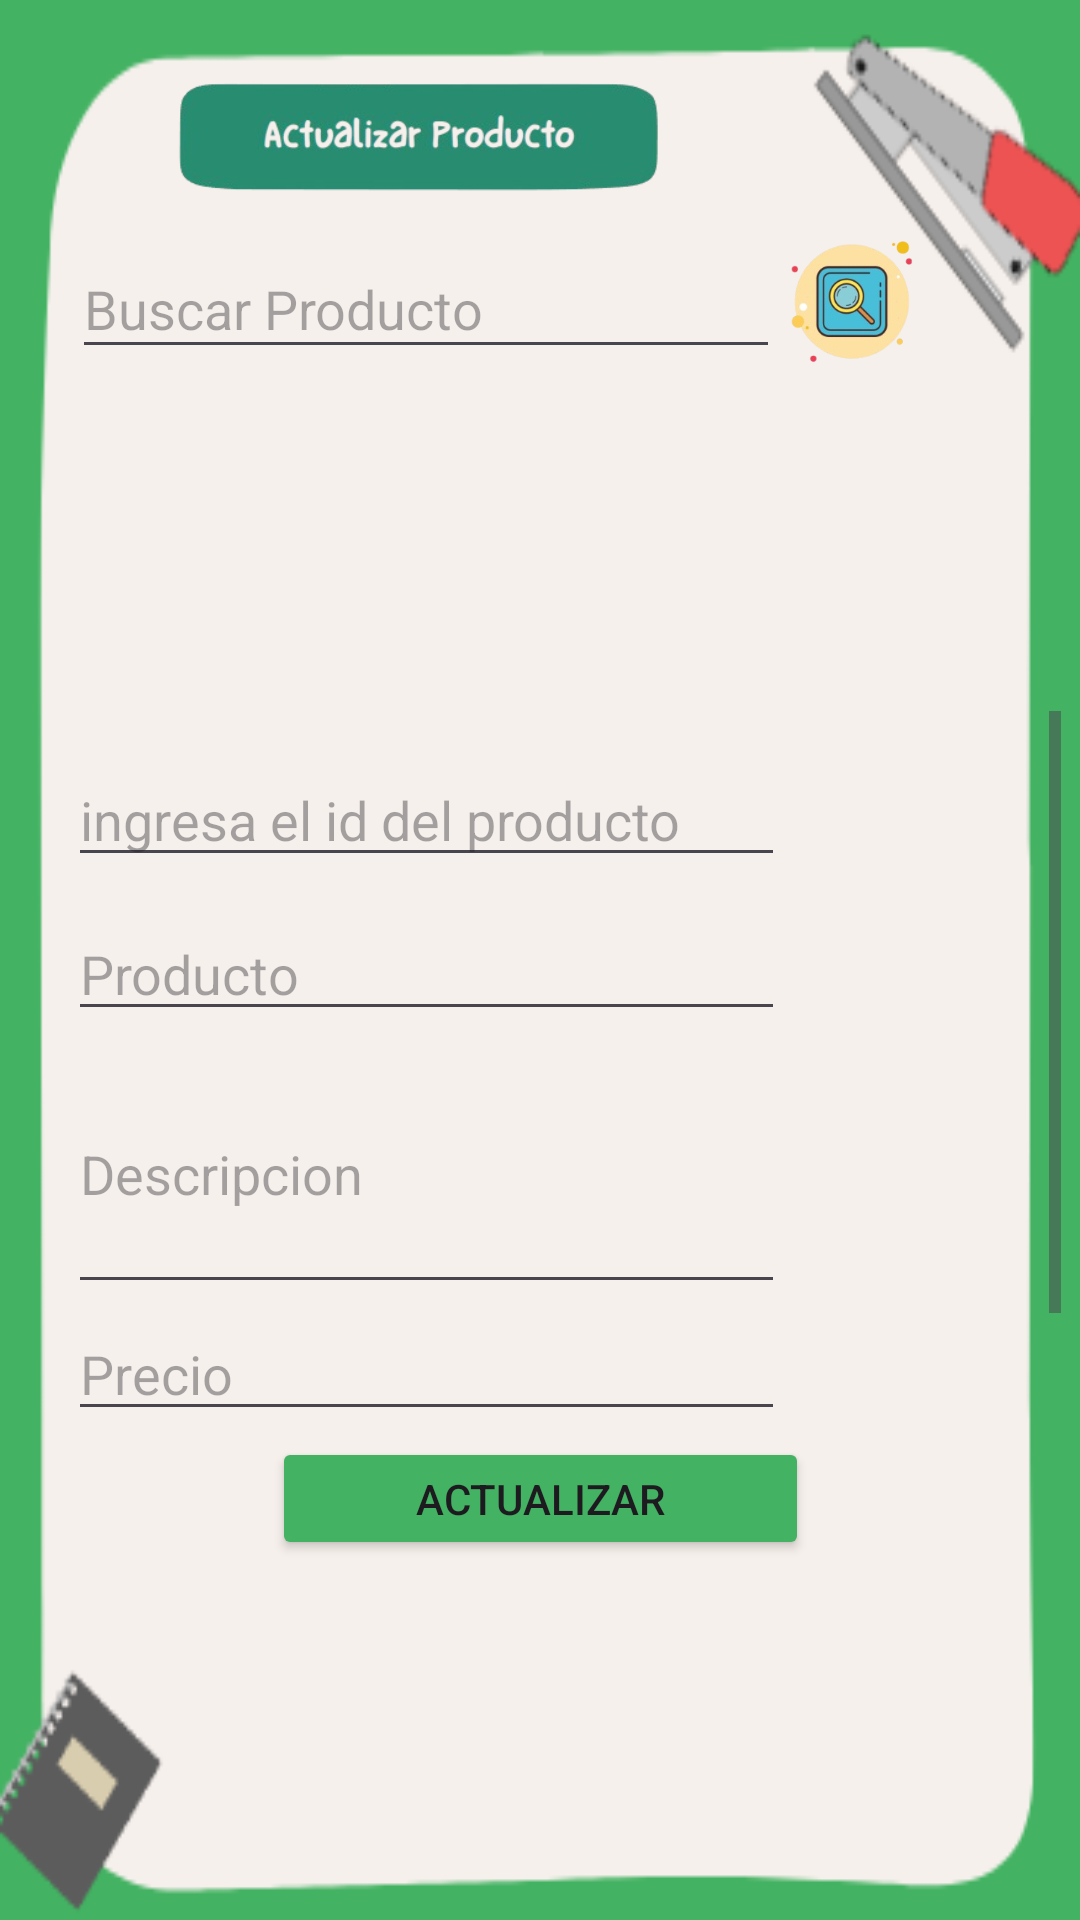

Icon bounding boxes for this 1080 x 1920 phone screenshot, format rect(x1, y1, x2, y2):
search: rect(791, 241, 912, 362)
